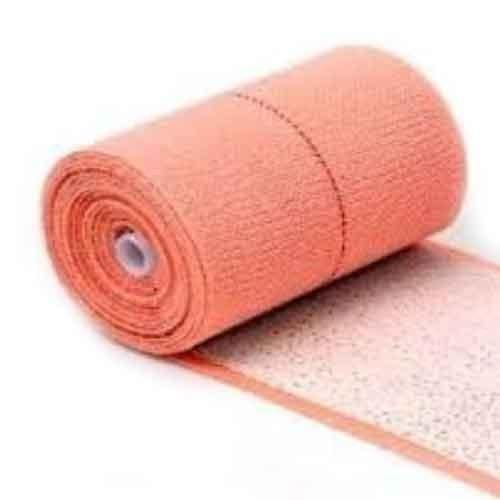bandage: (40, 42, 500, 498)
